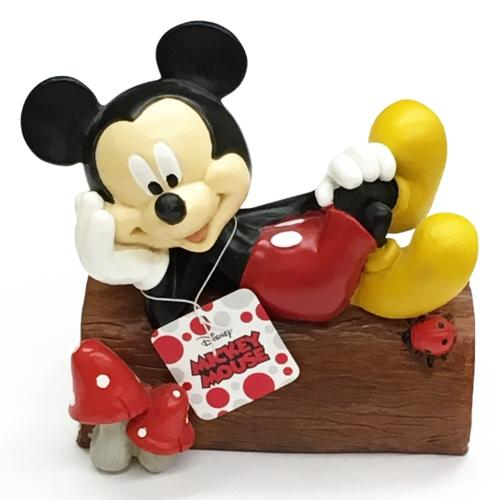Mickey: (18, 19, 251, 255)
